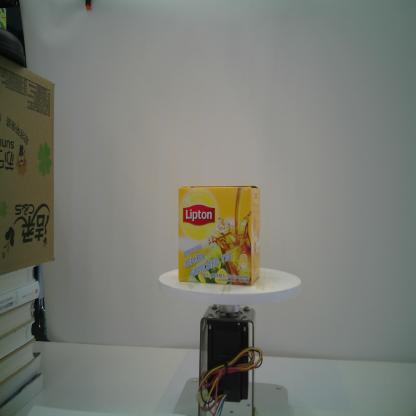Instant Drink: (176, 184, 262, 288)
